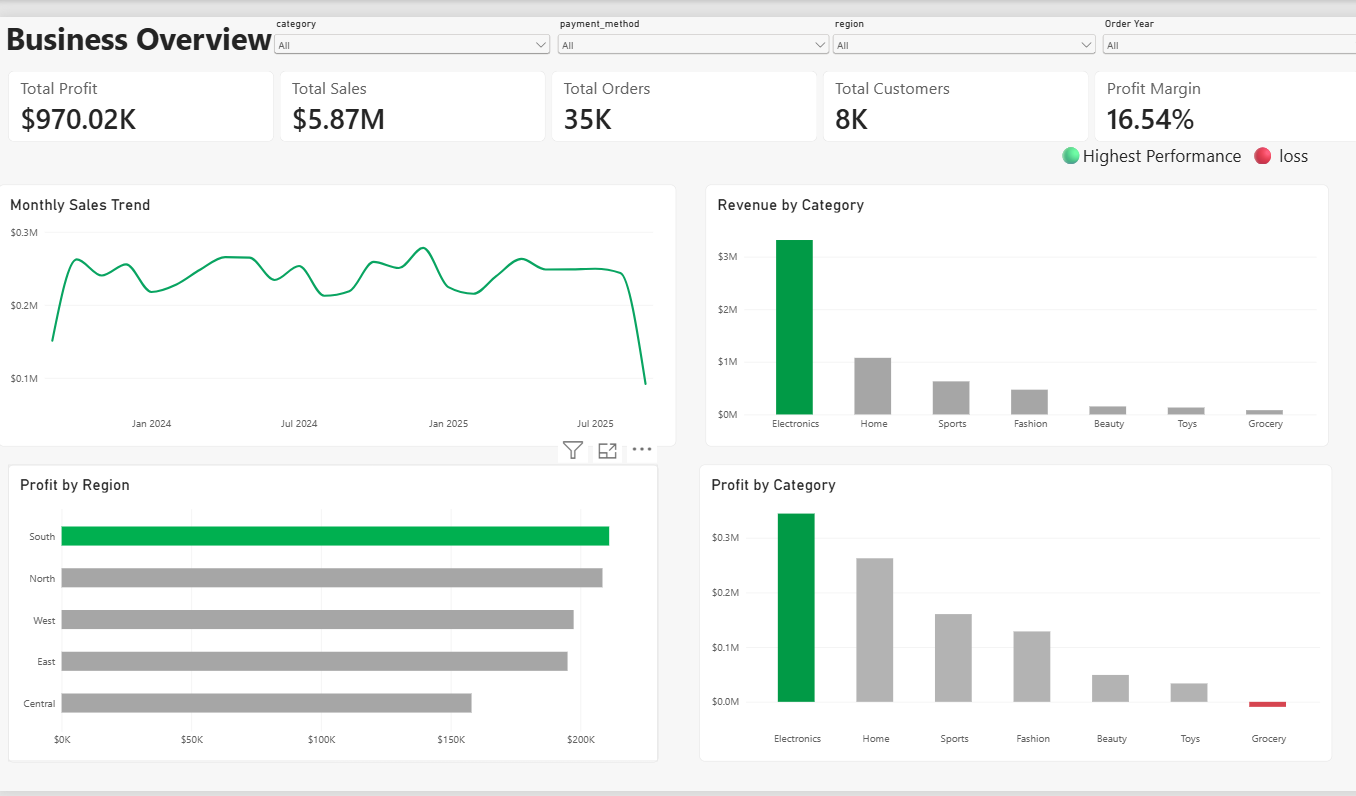

This screenshot's page, from the dashboard's own definition file:
{"tool":"powerbi","page":{"name":"Business Overview","canvas":[1920,1080],"ordinal":1},"visuals":[{"type":"textbox","box":[10,0,389.1,85.2],"z":0},{"type":"slicer","fields":{"Values":["ecommerce_sales_34500.category"]},"box":[380.2,0,395.2,74.1],"z":1000},{"type":"slicer","fields":{"Values":["ecommerce_sales_34500.payment_method"]},"box":[776.2,0,389,84.4],"z":2000},{"type":"slicer","fields":{"Values":["ecommerce_sales_34500.region"]},"box":[1159.9,0,376.7,74.1],"z":3000},{"type":"slicer","fields":{"Values":["ecommerce_sales_34500.Order Year"]},"box":[1536.6,0,382.6,73],"z":4000},{"type":"cardVisual","fields":{"Data":["Sum(ecommerce_sales_34500.profit)","Sum(ecommerce_sales_34500.total_amount)","ecommerce_sales_34500.Total Orders","ecommerce_sales_34500.Total Customers","ecommerce_sales_34500.Profit Margin"]},"box":[14,75,1890.7,99.4],"z":5000},{"type":"lineChart","title":"Monthly Sales Trend","fields":{"Y":["Sum(ecommerce_sales_34500.total_amount)"],"Category":["ecommerce_sales_34500.order_date.Variation.Date Hierarchy.Year","ecommerce_sales_34500.order_date.Variation.Date Hierarchy.Month"]},"box":[0,233.8,946.8,365.7],"z":6000},{"type":"clusteredColumnChart","title":"Revenue by Category","fields":{"Category":["ecommerce_sales_34500.category"],"Y":["Sum(ecommerce_sales_34500.total_amount)"]},"box":[986.8,233.8,869.9,365.7],"z":7000},{"type":"clusteredColumnChart","title":"Profit by Category","fields":{"Category":["ecommerce_sales_34500.category"],"Y":["Sum(ecommerce_sales_34500.profit)"]},"box":[978.5,624.5,883.3,414.1],"z":8000},{"type":"barChart","title":"Profit by Region","fields":{"Category":["ecommerce_sales_34500.region"],"Y":["Sum(ecommerce_sales_34500.profit)"]},"box":[13.4,624.5,908.4,415.8],"z":9000},{"type":"textbox","box":[1362.5,175.3,507.6,90.2],"z":10000},{"type":"textbox","box":[1481.1,175.3,389.1,45.1],"z":11000}]}

Visuals, with their boxes on the page's 1920x1080 design canvas (x1, y1, x2, y2). These are canvas units, not pixel positions in the 1356x796 screenshot, which may show the page scaled, cropped or inside an application window:
textbox: 10/0/399/85
slicer - ecommerce_sales_34500.category: 380/0/775/74
slicer - ecommerce_sales_34500.payment_method: 776/0/1165/84
slicer - ecommerce_sales_34500.region: 1160/0/1537/74
slicer - ecommerce_sales_34500.Order Year: 1537/0/1919/73
cardVisual - Sum(ecommerce_sales_34500.profit) x Sum(ecommerce_sales_34500.total_amount): 14/75/1905/174
"Monthly Sales Trend" lineChart: 0/234/947/600
"Revenue by Category" clusteredColumnChart: 987/234/1857/600
"Profit by Category" clusteredColumnChart: 978/624/1862/1039
"Profit by Region" barChart: 13/624/922/1040
textbox: 1362/175/1870/266
textbox: 1481/175/1870/220
